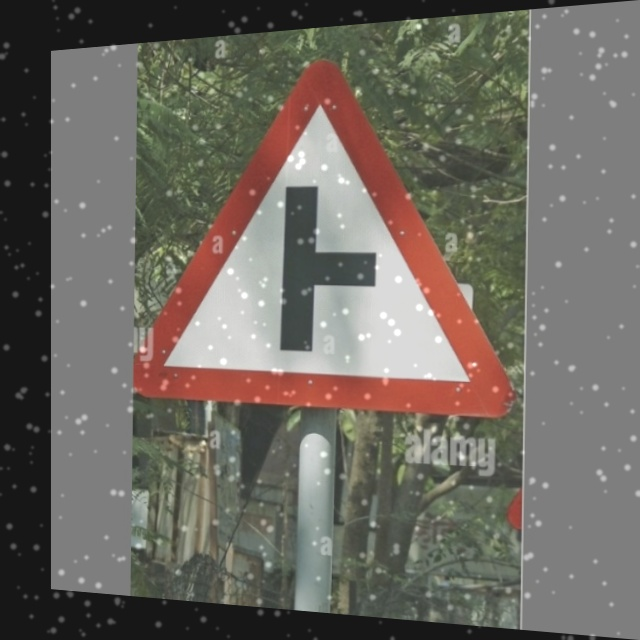Side_Road_Right: (163, 45, 506, 419)
